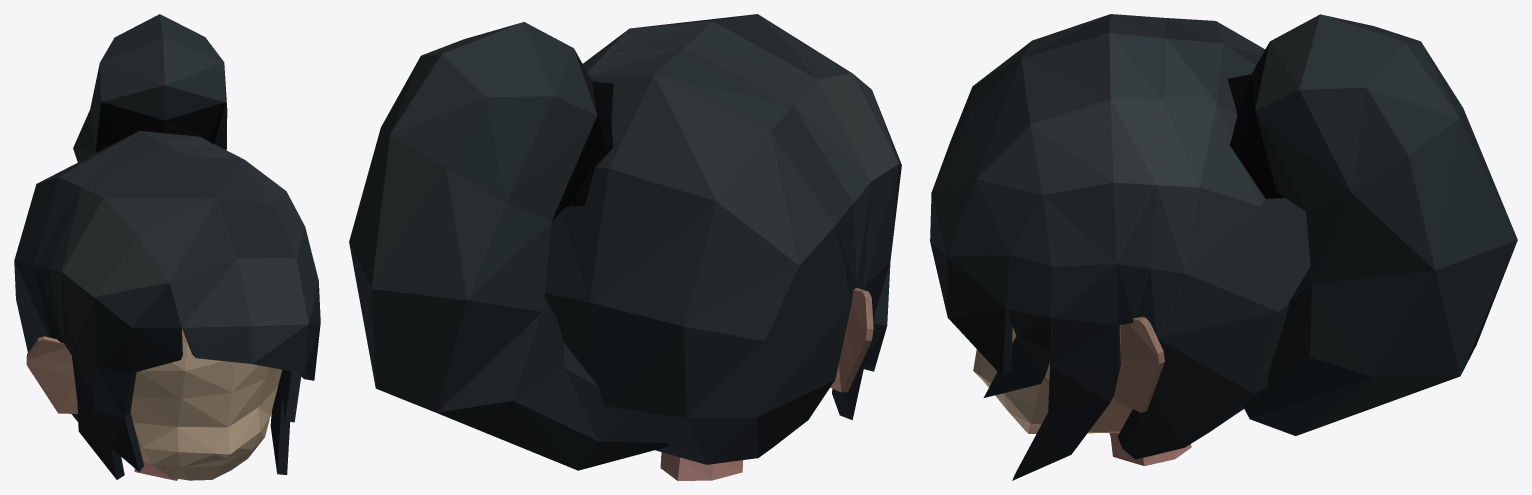
File: helm_lightskin_ponytail_black.fbx
3 renders of one model, left to right at view 1: azimuth 30°, elevation 25°; view 2: azimuth 150°, elevation 25°; view 3: azimuth 270°, elevation 25°, orthographic. The views are drawn at different scales.
Parts seen in each view (by area): view 1: helm_lightskin_ponytail_black; view 2: helm_lightskin_ponytail_black; view 3: helm_lightskin_ponytail_black.
Part boxes in pixels (x1,y1,x2,y2): helm_lightskin_ponytail_black: (14, 14, 320, 480); helm_lightskin_ponytail_black: (349, 14, 901, 480); helm_lightskin_ponytail_black: (930, 14, 1517, 480).
Bounding box in the file's own units: 1.21 × 1.49 × 1.64.
